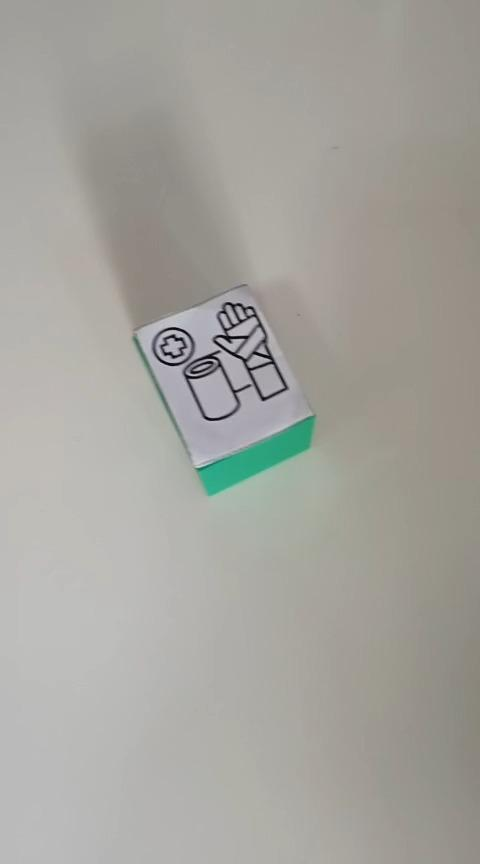Bandages: (131, 281, 316, 496)
